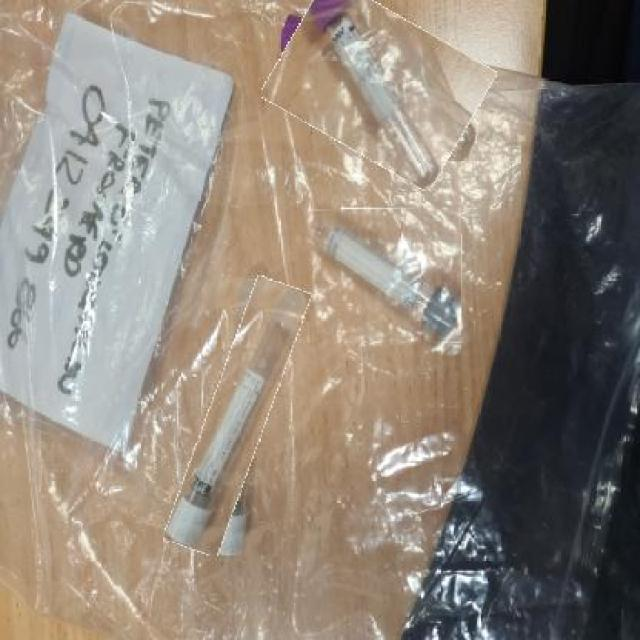Experimental-tube: (269, 0, 486, 172), (186, 277, 289, 557), (306, 208, 460, 344)
